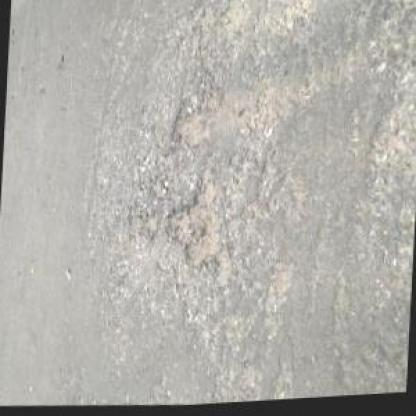pothole: (164, 183, 221, 276), (172, 111, 211, 154)
